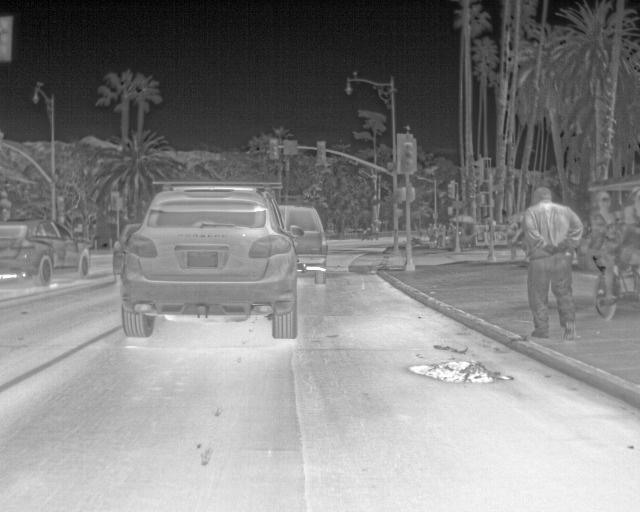bicycle: (117, 174, 299, 338), (1, 214, 94, 288), (277, 204, 327, 286), (111, 219, 145, 278)
empty: (523, 186, 590, 342), (590, 189, 623, 320), (617, 182, 638, 296), (432, 222, 445, 252)
